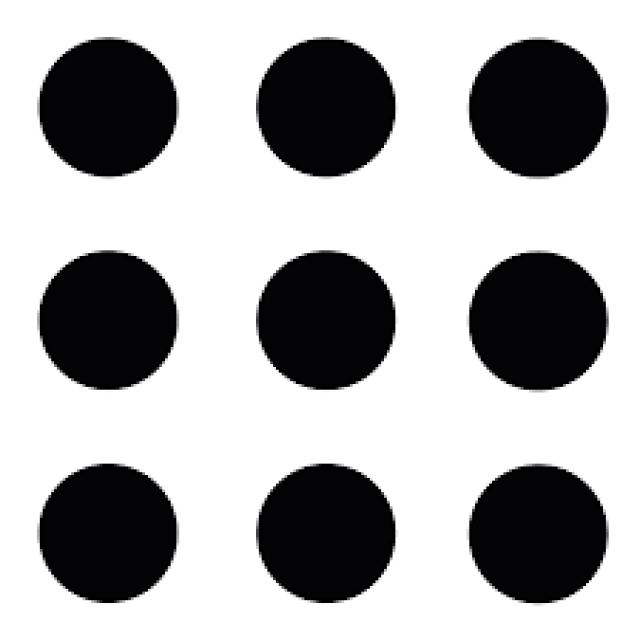circle: (16, 442, 204, 622), (238, 449, 420, 617), (237, 232, 412, 405), (456, 445, 618, 623), (25, 242, 198, 406), (460, 225, 611, 405), (24, 26, 190, 188), (237, 35, 408, 179), (458, 36, 622, 178)
